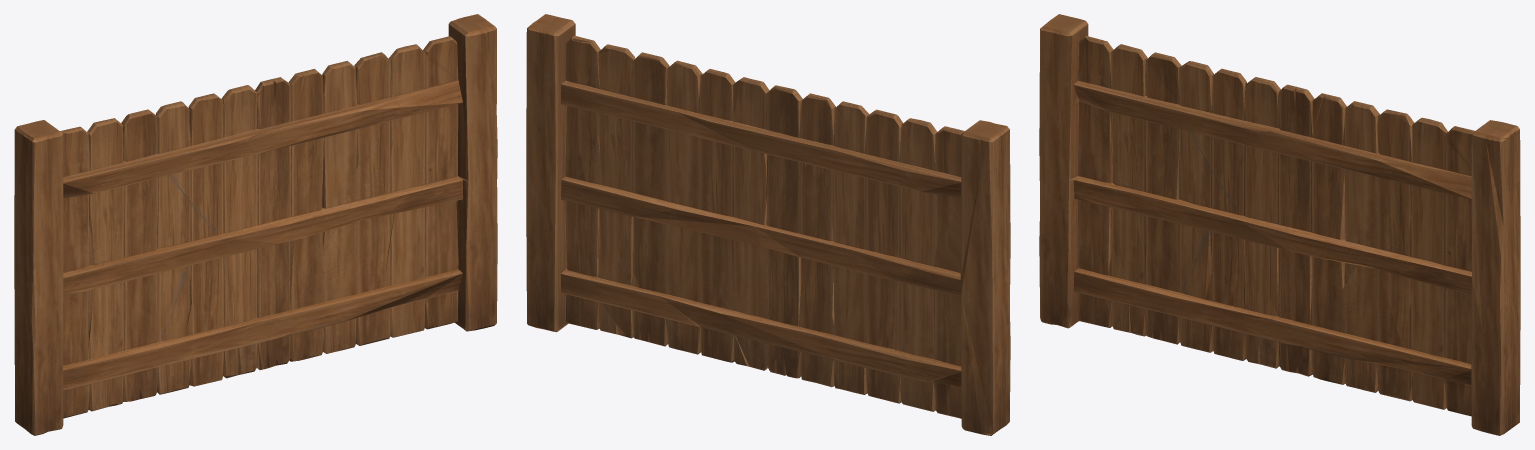
The model's file is fence.glb.
3 renders of one model, left to right at view 1: azimuth 30°, elevation 25°; view 2: azimuth 150°, elevation 25°; view 3: azimuth 330°, elevation 25°, orthographic.
Visible parts, largest first — view 1: Mesh_0; view 2: Mesh_0; view 3: Mesh_0.
Part boxes in pixels (x1=…): Mesh_0: x1=14, y1=14, x2=497, y2=435; Mesh_0: x1=526, y1=14, x2=1010, y2=435; Mesh_0: x1=1039, y1=14, x2=1520, y2=435.
Size of the model in its own units: 1.9 by 1.17 by 0.1398.
1 material, 1 textured.
